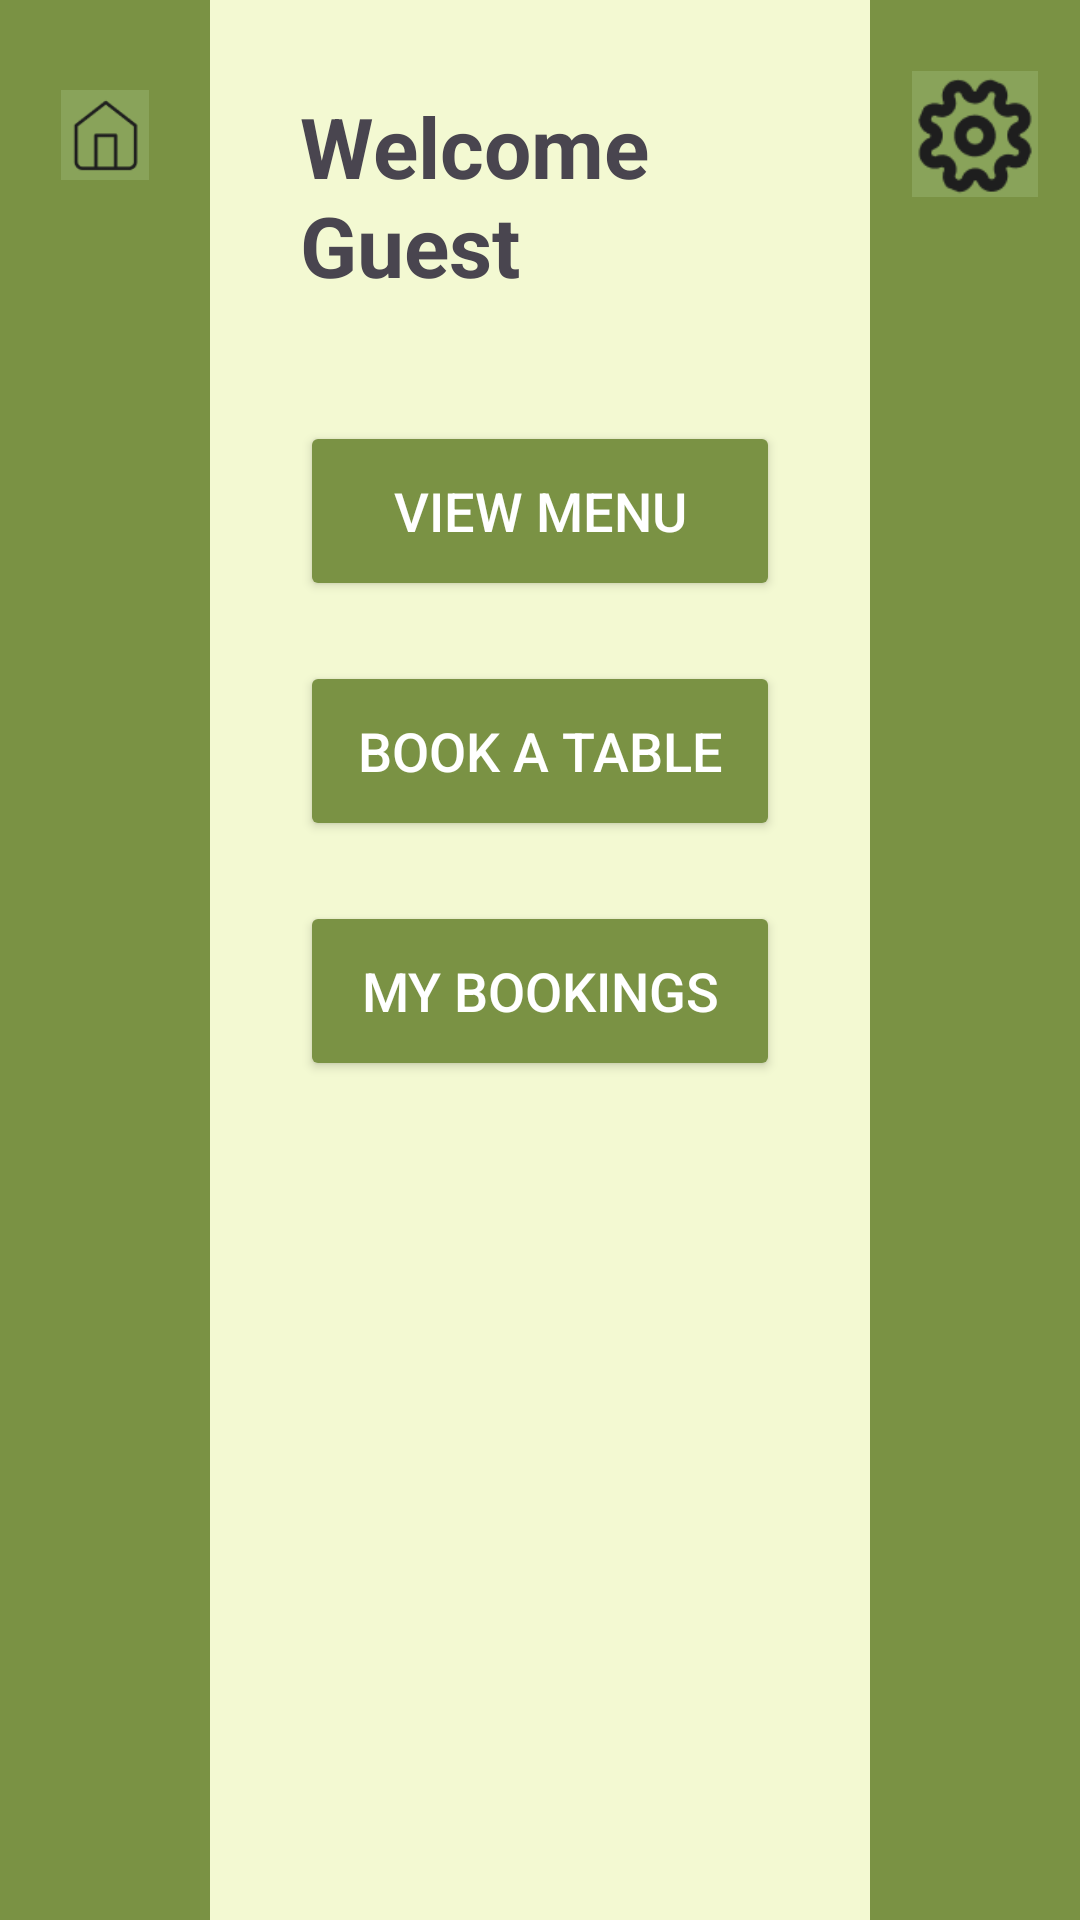

Icon click points for this 1080 × 1920 phone screenshot, format [x,y]:
home: [105,135]
settings: [975,136]
